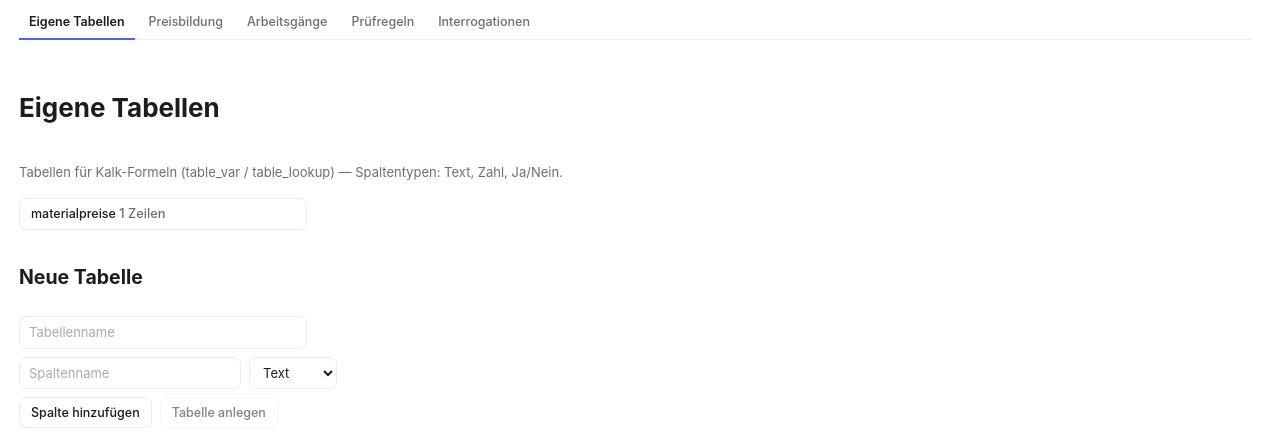
CustomTablesPage › lists tables and opens one into the grid
Click the button "materialpreise 1 Zeilen" at (163, 214), box [19, 198, 307, 230]
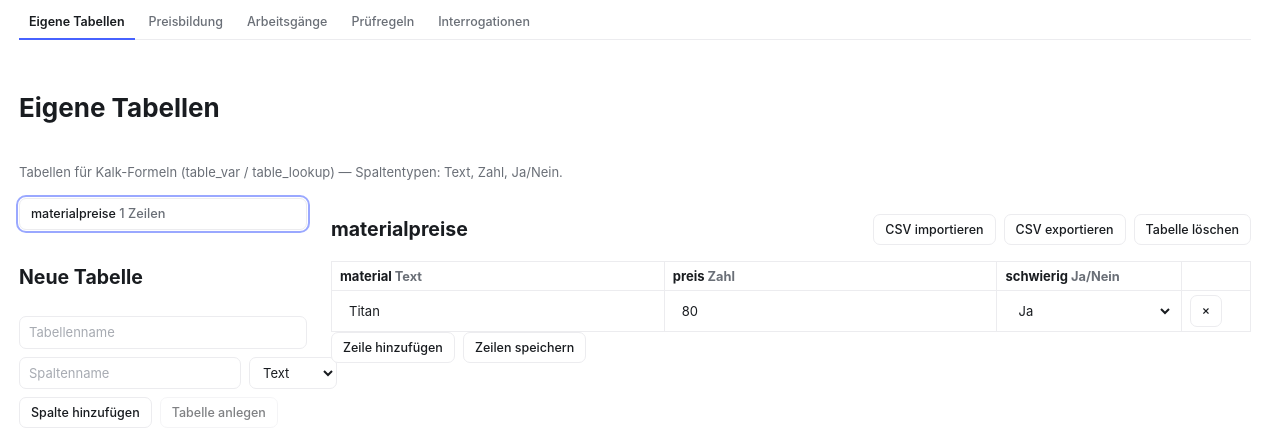
Expected: the 1st field showing "Titan" is shown, [340, 296, 656, 326]
Expected: the 2nd field showing "80" is shown, [673, 296, 988, 326]
